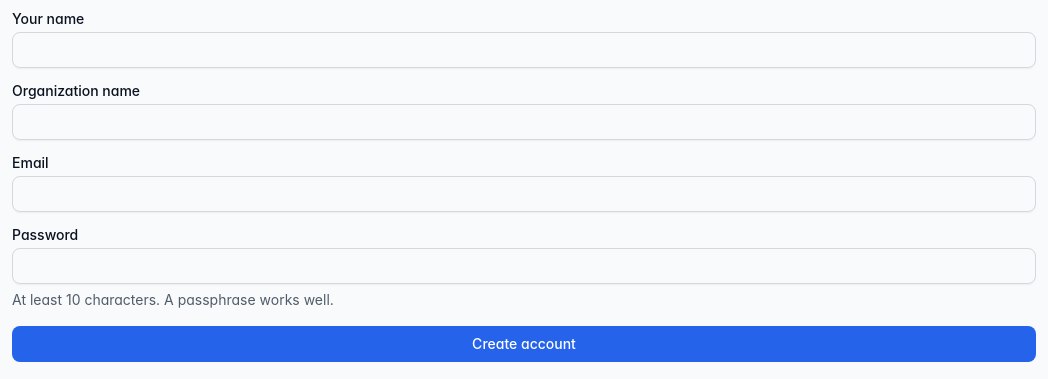
Test: SignupForm › never reveals whether the email was already registered
Step 1. Type "Dana Lee" into the field labelled "Your name" → (524, 50), box x1=12 y1=32 x2=1036 y2=68
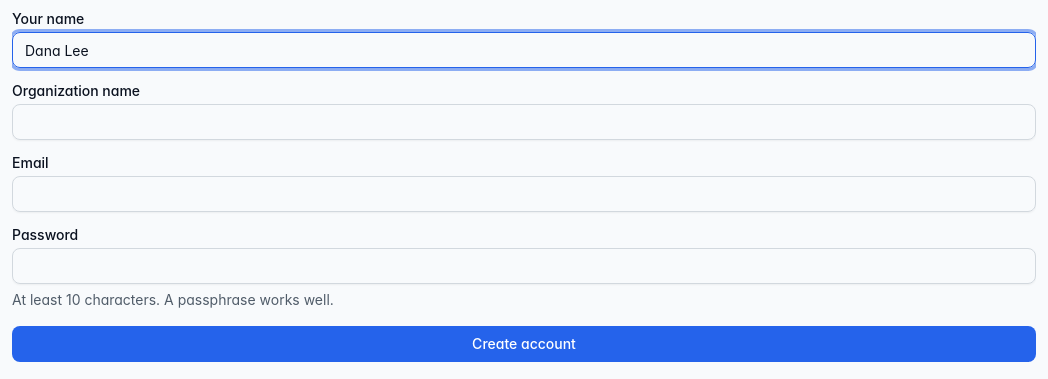
Step 2. Type "Acme" into the field labelled "Organization name" → (524, 122), box x1=12 y1=104 x2=1036 y2=140
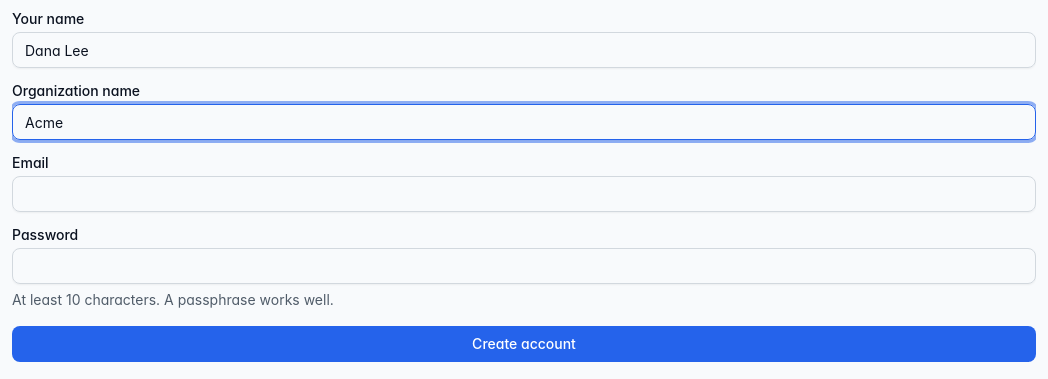
Step 3. Type "dana@acme.com" into the field labelled "Email" → (524, 194), box x1=12 y1=176 x2=1036 y2=212
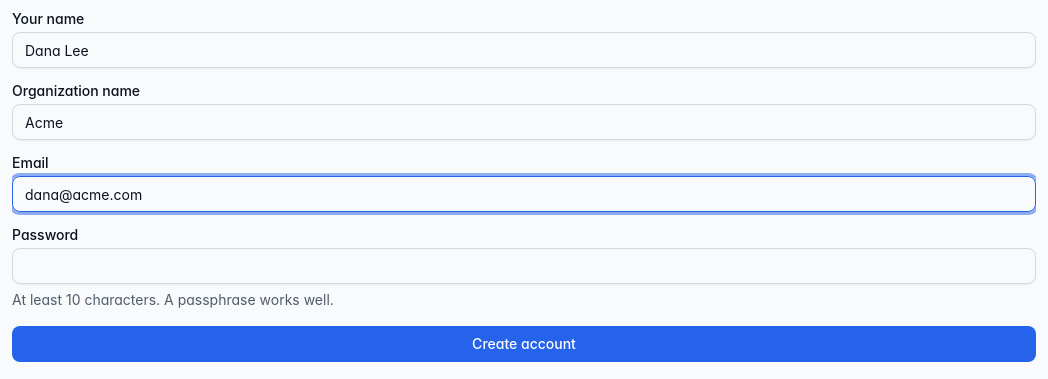
Step 4. Type "correct horse battery staple" into the password field labelled "Password" → (524, 266), box x1=12 y1=248 x2=1036 y2=284
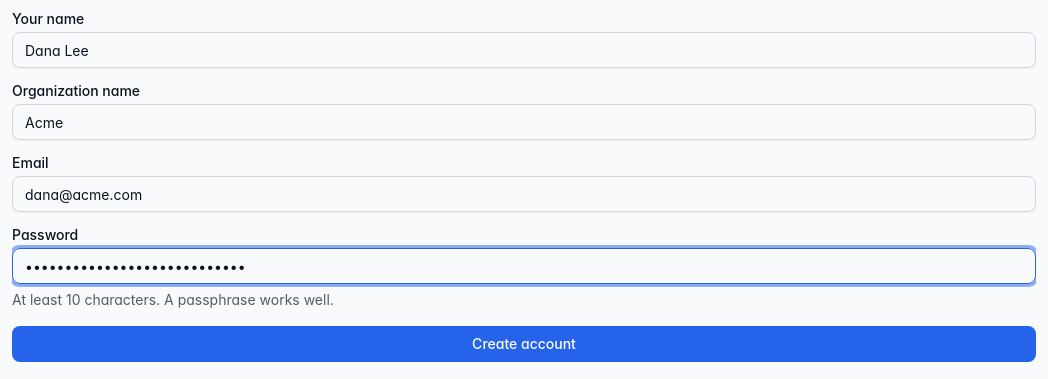
Step 5. Click the button "Create account" → click(524, 344), box x1=12 y1=326 x2=1036 y2=362
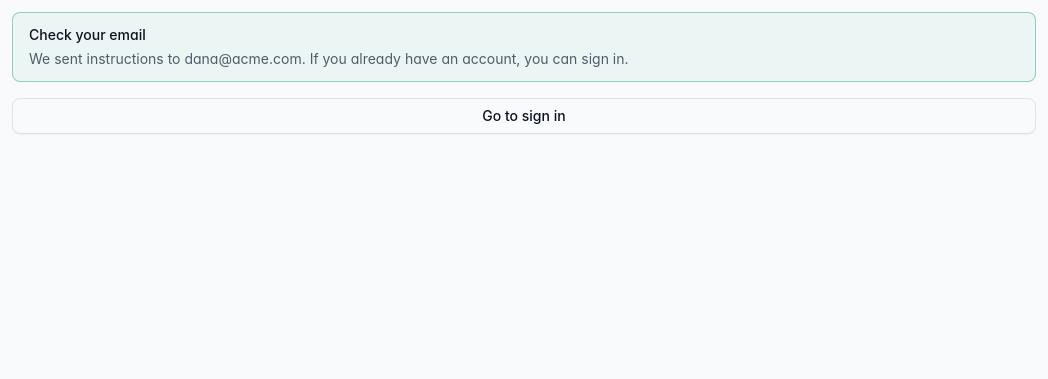
expect the message shows "Check your email": met, box x1=29 y1=26 x2=146 y2=43
